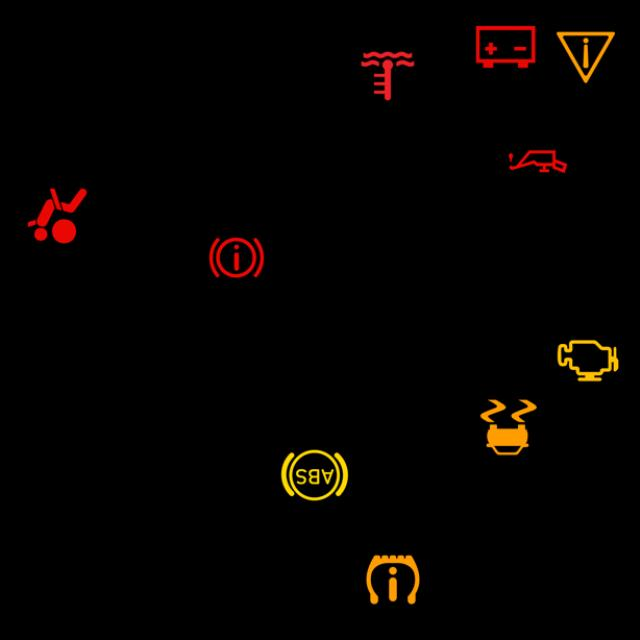Anti Lock Braking System: (277, 439, 350, 512)
Braking System Issue: (199, 221, 272, 294)
Charging System Issue: (468, 11, 541, 84)
Check Engine: (550, 324, 624, 397)
Electronic Stability Problem -ESP-: (471, 391, 544, 464)
Engine Overheating Warning Light: (350, 40, 423, 112)
Low Engine Oil Warning Light: (501, 125, 574, 198)
Low Tire Pressure Warning Light: (356, 543, 428, 616)
Master warning light: (548, 21, 622, 94)
SRS-Airbag: (20, 180, 93, 252)
